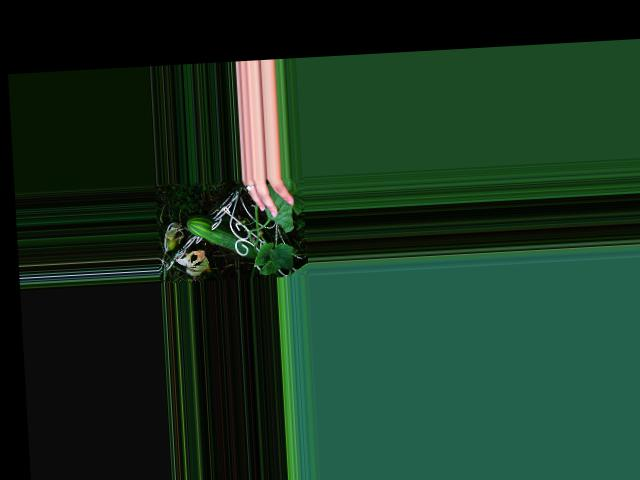cucumber: (186, 211, 258, 262)
